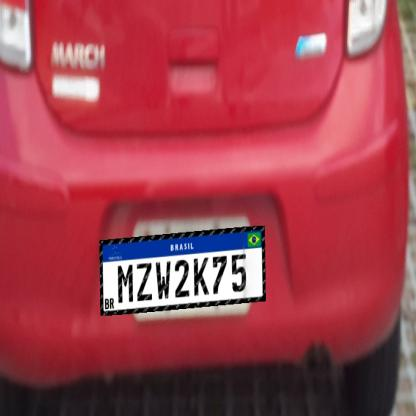PlacaM: (99, 226, 266, 316)
